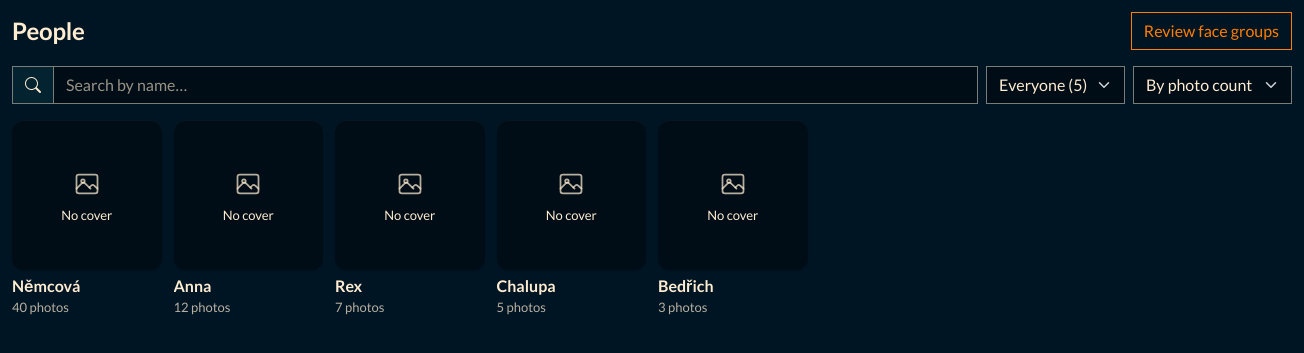
Test case: PeoplePage › sorts by when a person was added when asked
Expected: the link "No cover Anna 12 photos" is shown, x1=174 y1=120 x2=323 y2=316
Select "Recently added" in the dropdown named "Sort" at coordinates (1212, 85), box x1=1133 y1=66 x2=1292 y2=104
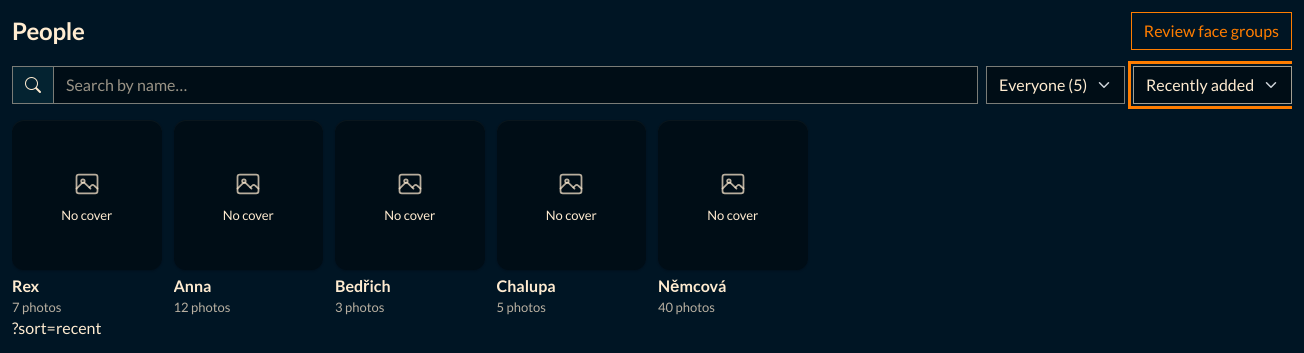
Now the text with test id "search" shows "sort=recent", box x1=12 y1=318 x2=102 y2=337
